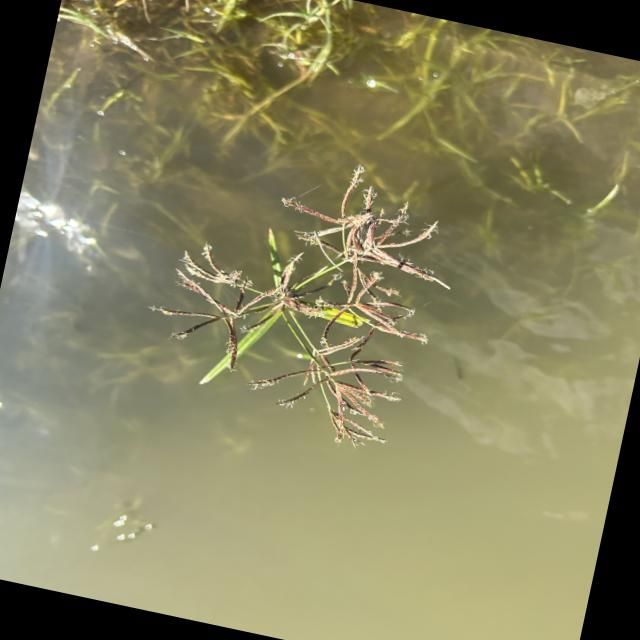cyperus: (122, 132, 483, 473)
